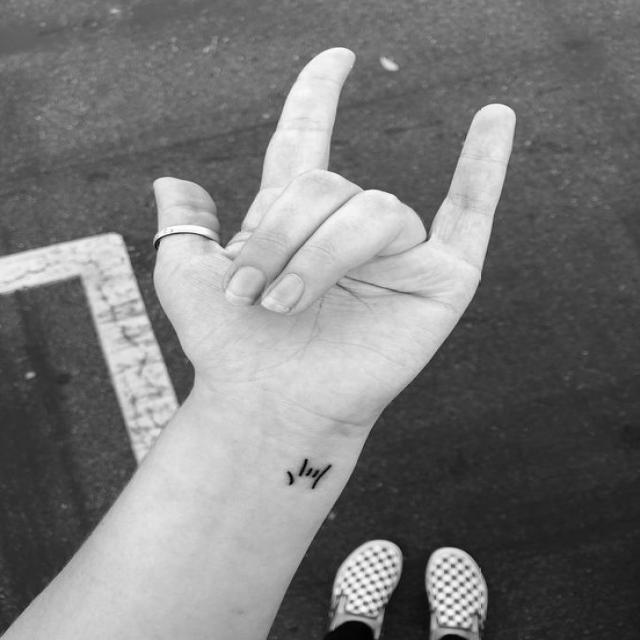i love you: (144, 41, 524, 420)
